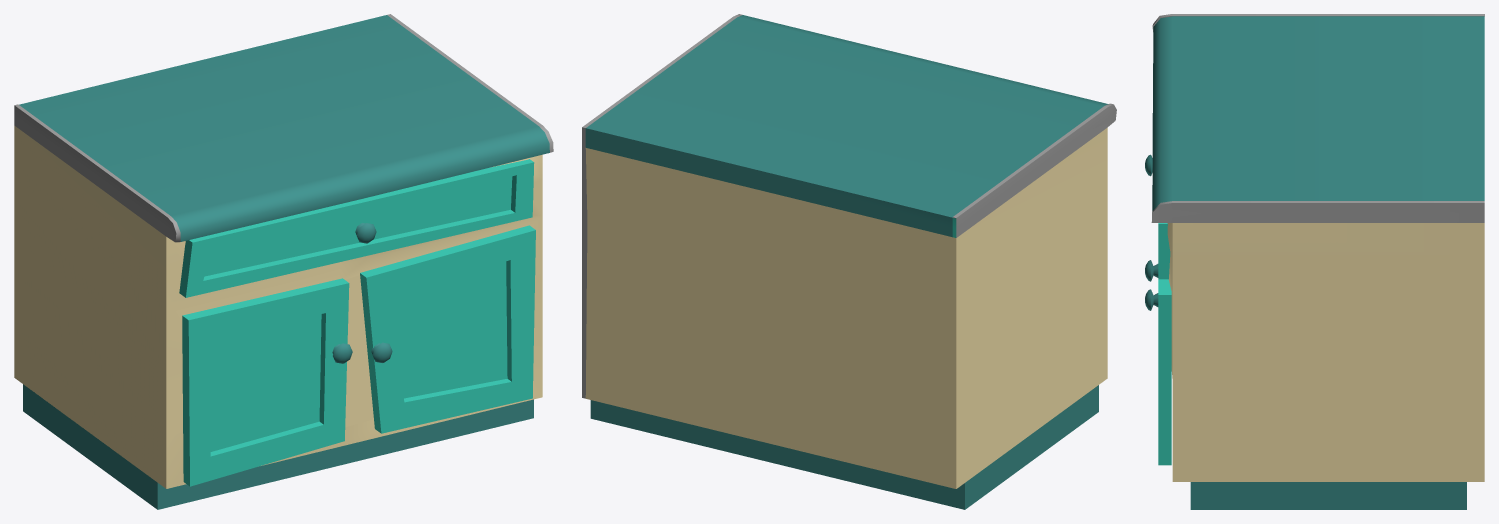
The model's file is WorkTable2.fbx.
3 renders of one model, left to right at view 1: azimuth 30°, elevation 25°; view 2: azimuth 150°, elevation 25°; view 3: azimuth 270°, elevation 25°, orthographic. The views are drawn at different scales.
Parts seen in each view (by area): view 1: Cube.001; view 2: Cube.001; view 3: Cube.001.
Boxes of the visible parts, x1=… form: Cube.001: x1=14, y1=14, x2=553, y2=509; Cube.001: x1=582, y1=14, x2=1116, y2=509; Cube.001: x1=1145, y1=14, x2=1484, y2=509.
Bounding box in the file's own units: 100 × 76.13 × 76.23.
